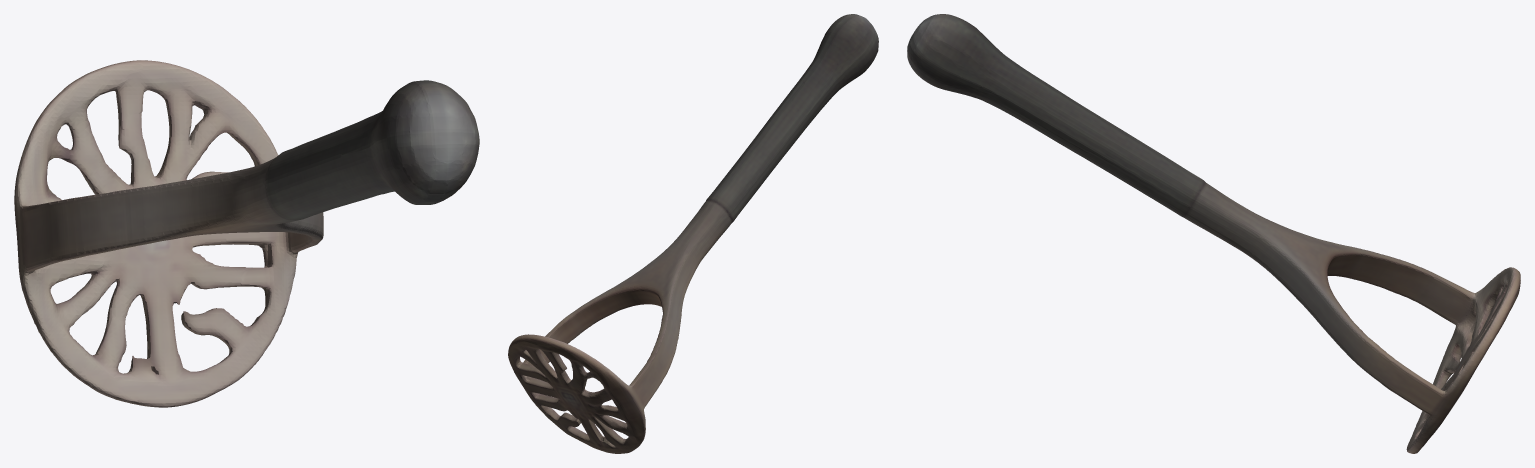
Rendered from frame_0077_source_000077_object.glb.
3 renders of one model, left to right at view 1: azimuth 30°, elevation 25°; view 2: azimuth 150°, elevation 25°; view 3: azimuth 270°, elevation 25°, orthographic. The views are drawn at different scales.
Parts seen in each view (by area): view 1: world; view 2: world; view 3: world.
Part boxes in pixels (<box>): world: <box>14,60,479,407</box>; world: <box>508,14,878,453</box>; world: <box>907,14,1520,453</box>.
Size of the model in its own units: 0.0866 by 0.1676 by 0.2386.
